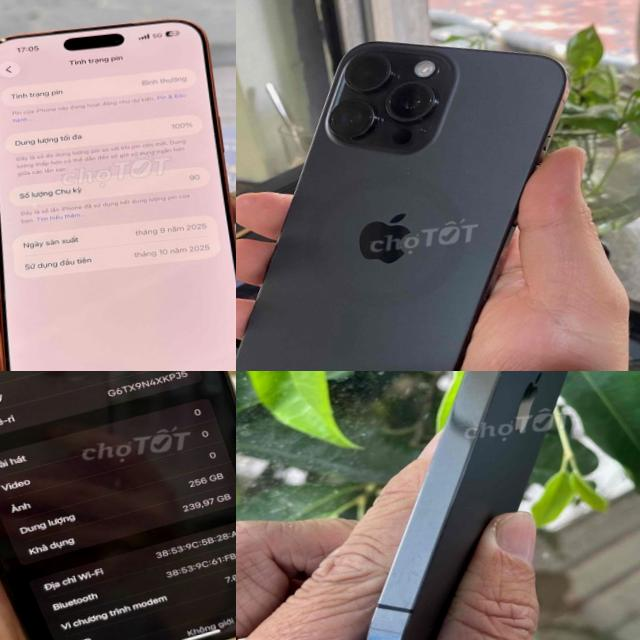gen_12_13: (301, 371, 640, 640)
gen_15: (236, 13, 616, 371)
gen_17: (0, 6, 236, 371)
gen_x_xs: (0, 371, 236, 640)
